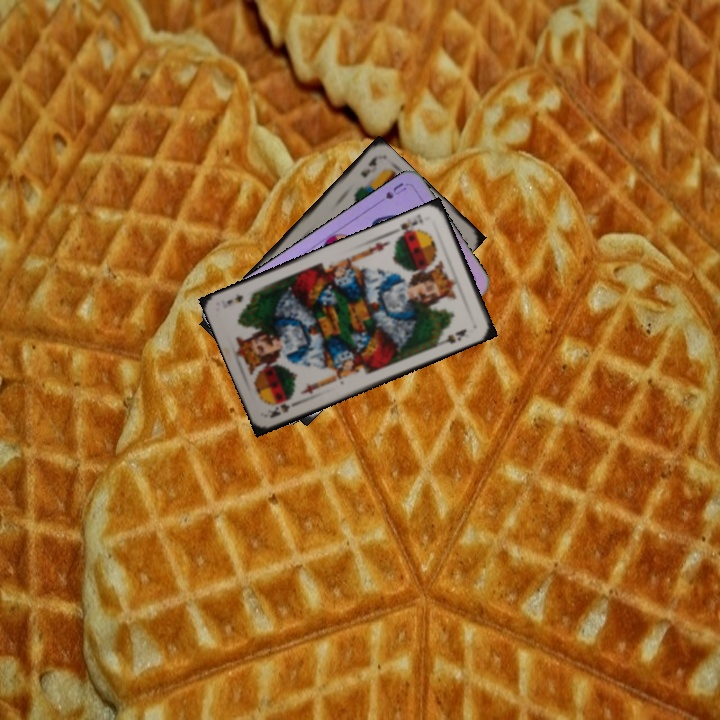EK: (356, 153, 379, 180)
SK: (394, 210, 426, 240), (266, 398, 299, 421)
SU: (381, 178, 409, 202)
